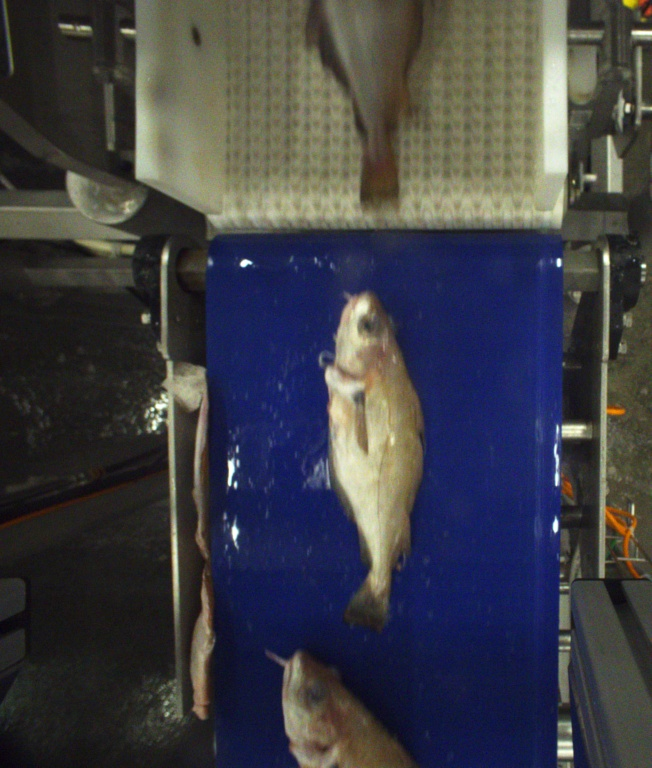BIB: (256, 648, 416, 768)
